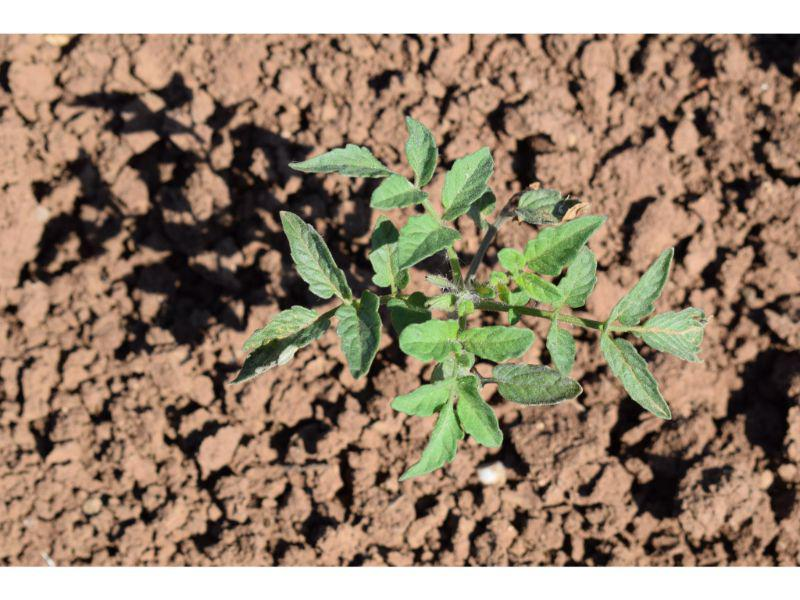tomato: (232, 117, 704, 482)
